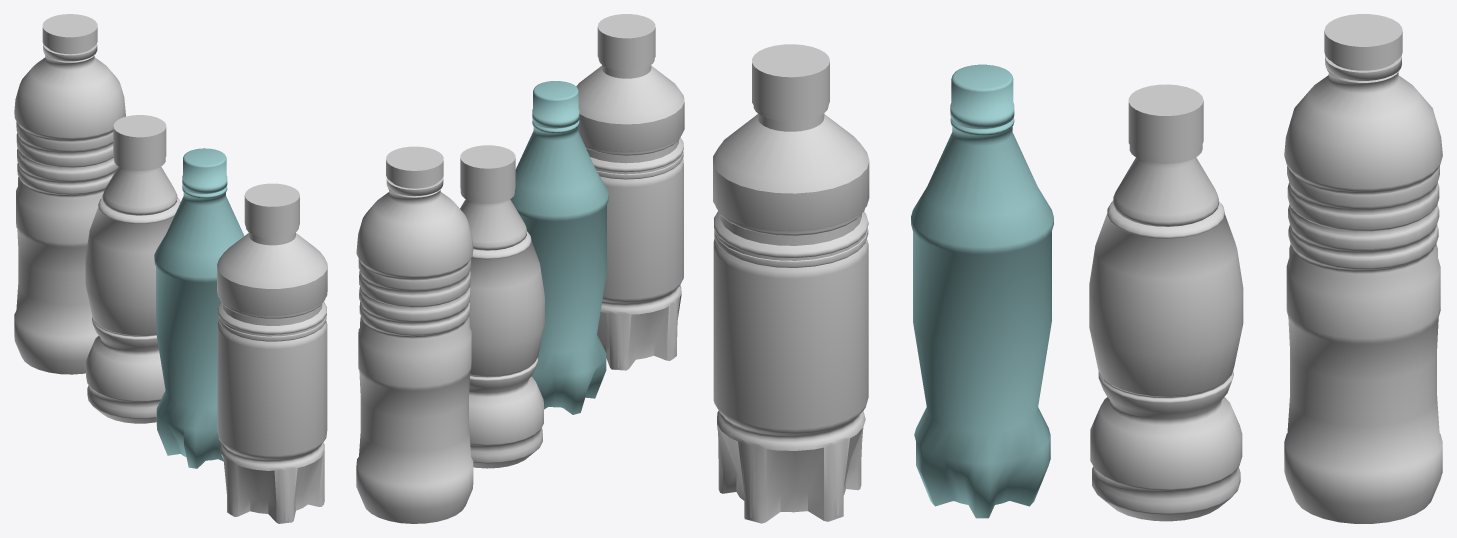
File: bottle.glb
The picture shows the model from 3 angles, left to right: view 1: azimuth 30°, elevation 25°; view 2: azimuth 150°, elevation 25°; view 3: azimuth 270°, elevation 25°; orthographic projection. The views are drawn at different scales.
Visible parts, largest first — view 1: Cylinder.003, Cylinder.001, Cylinder.002, Cylinder; view 2: Cylinder.001, Cylinder.003, Cylinder, Cylinder.002; view 3: Cylinder.001, Cylinder.003, Cylinder.002, Cylinder.
Boxes of the visible parts, x1,y1,x2,y2 form: Cylinder.003: (217, 183, 327, 523); Cylinder.001: (14, 14, 125, 374); Cylinder.002: (85, 115, 180, 423); Cylinder: (154, 148, 244, 468); Cylinder.001: (356, 146, 473, 523); Cylinder.003: (576, 14, 684, 370); Cylinder: (510, 81, 608, 414); Cylinder.002: (460, 145, 544, 468); Cylinder.001: (1284, 14, 1442, 523); Cylinder.003: (713, 44, 869, 523); Cylinder.002: (1089, 84, 1243, 521); Cylinder: (911, 64, 1053, 518).
Size of the model in its own units: 2.62 by 8.55 by 12.14.
